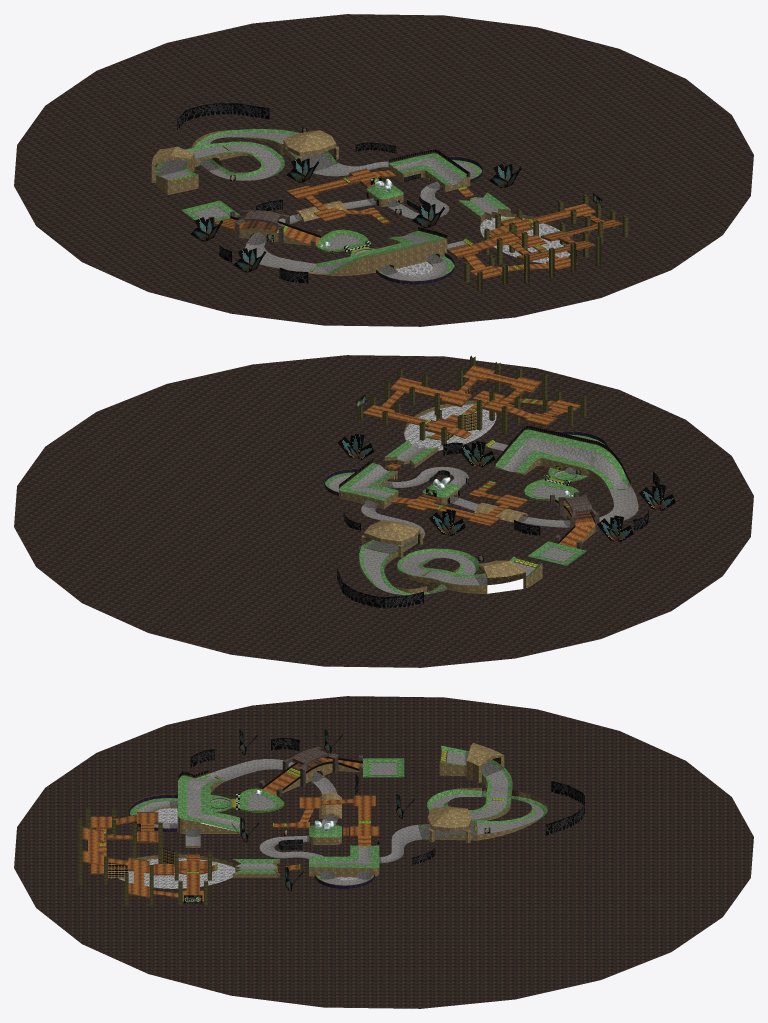
3 views of the same model, one above another, from view 1: azimuth 30°, elevation 25°; view 2: azimuth 150°, elevation 25°; view 3: azimuth 270°, elevation 25° (orthographic).
Parts seen in each view (by area): view 1: course-SKP--TMud, course-SKP--Bwall, course-SKP--Road.002, course-SKP--RoadM, course-SKP--RoadG, course-SKP--Cwall, course-SKP--8, course-SKP--7, course-SKP--RoadD, course-SKP--Water, course-SKP--BwallD1, course-SKP--5 (+1 smaller); view 2: course-SKP--TMud, course-SKP--Road.002, course-SKP--RoadM, course-SKP--RoadG, course-SKP--Bwall, course-SKP--7, course-SKP--Cwall, course-SKP--8, course-SKP--Water, course-SKP--3.001, course-SKP--RoadD, course-SKP--BwallD1 (+1 smaller); view 3: course-SKP--TMud, course-SKP--Road.002, course-SKP--RoadM, course-SKP--Bwall, course-SKP--RoadG, course-SKP--8, course-SKP--Cwall, course-SKP--Water, course-SKP--RoadD, course-SKP--BwallD1, course-SKP--7, course-SKP--3.001 (+1 smaller).
Part boxes in pixels (x1=…): course-SKP--TMud: x1=14, y1=14, x2=753, y2=326; course-SKP--Bwall: x1=151, y1=130, x2=572, y2=275; course-SKP--Road.002: x1=161, y1=132, x2=497, y2=280; course-SKP--RoadM: x1=214, y1=169, x2=622, y2=278; course-SKP--RoadG: x1=157, y1=129, x2=510, y2=277; course-SKP--Cwall: x1=464, y1=194, x2=628, y2=291; course-SKP--8: x1=177, y1=103, x2=430, y2=283; course-SKP--7: x1=190, y1=158, x2=521, y2=272; course-SKP--RoadD: x1=159, y1=152, x2=443, y2=274; course-SKP--Water: x1=395, y1=216, x2=570, y2=275; course-SKP--BwallD1: x1=208, y1=210, x2=322, y2=247; course-SKP--5: x1=376, y1=156, x2=482, y2=284; course-SKP--TMud: x1=14, y1=355, x2=753, y2=667; course-SKP--Road.002: x1=329, y1=437, x2=638, y2=595; course-SKP--RoadM: x1=363, y1=365, x2=595, y2=547; course-SKP--RoadG: x1=325, y1=429, x2=630, y2=595; course-SKP--Bwall: x1=339, y1=400, x2=633, y2=593; course-SKP--7: x1=337, y1=433, x2=675, y2=541; course-SKP--Cwall: x1=357, y1=355, x2=586, y2=445; course-SKP--8: x1=337, y1=442, x2=659, y2=608; course-SKP--Water: x1=404, y1=404, x2=496, y2=450; course-SKP--3.001: x1=405, y1=378, x2=557, y2=511; course-SKP--RoadD: x1=363, y1=467, x2=576, y2=592; course-SKP--BwallD1: x1=550, y1=492, x2=599, y2=548; course-SKP--TMud: x1=14, y1=696, x2=753, y2=1008; course-SKP--Road.002: x1=136, y1=751, x2=543, y2=885; course-SKP--RoadM: x1=82, y1=757, x2=379, y2=901; course-SKP--Bwall: x1=127, y1=743, x2=547, y2=877; course-SKP--RoadG: x1=129, y1=745, x2=547, y2=881; course-SKP--8: x1=190, y1=738, x2=584, y2=864; course-SKP--Cwall: x1=78, y1=807, x2=211, y2=906; course-SKP--Water: x1=119, y1=808, x2=355, y2=888; course-SKP--RoadD: x1=169, y1=754, x2=500, y2=879; course-SKP--BwallD1: x1=259, y1=746, x2=362, y2=796; course-SKP--7: x1=230, y1=729, x2=414, y2=890; course-SKP--3.001: x1=82, y1=812, x2=379, y2=878.
Bounding box in the file's own units: 179110 × 9647 × 179110.
33 materials, 32 textured.
